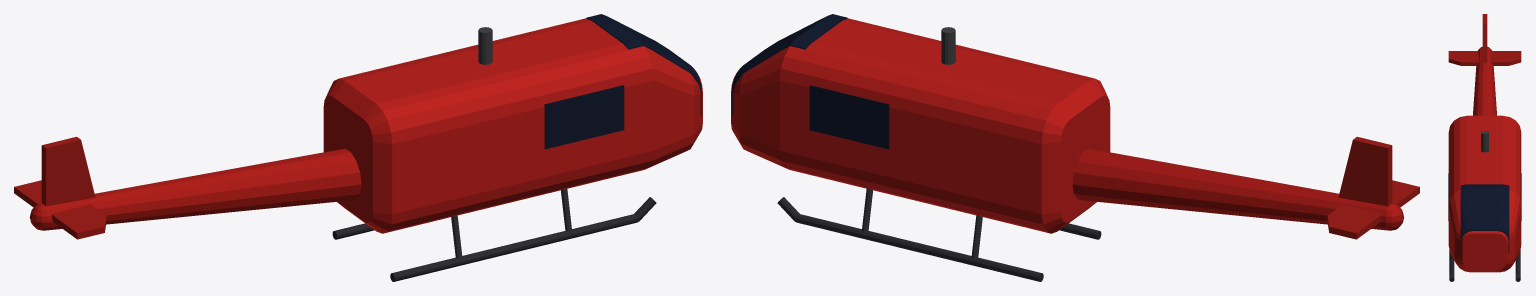
Rendered from helicopter_body.obj.
The picture shows the model from 3 angles, left to right: view 1: azimuth 30°, elevation 25°; view 2: azimuth 150°, elevation 25°; view 3: azimuth 270°, elevation 25°; orthographic projection. The views are drawn at different scales.
Size of the model in its own units: 10.7 by 3.15 by 1.82.
